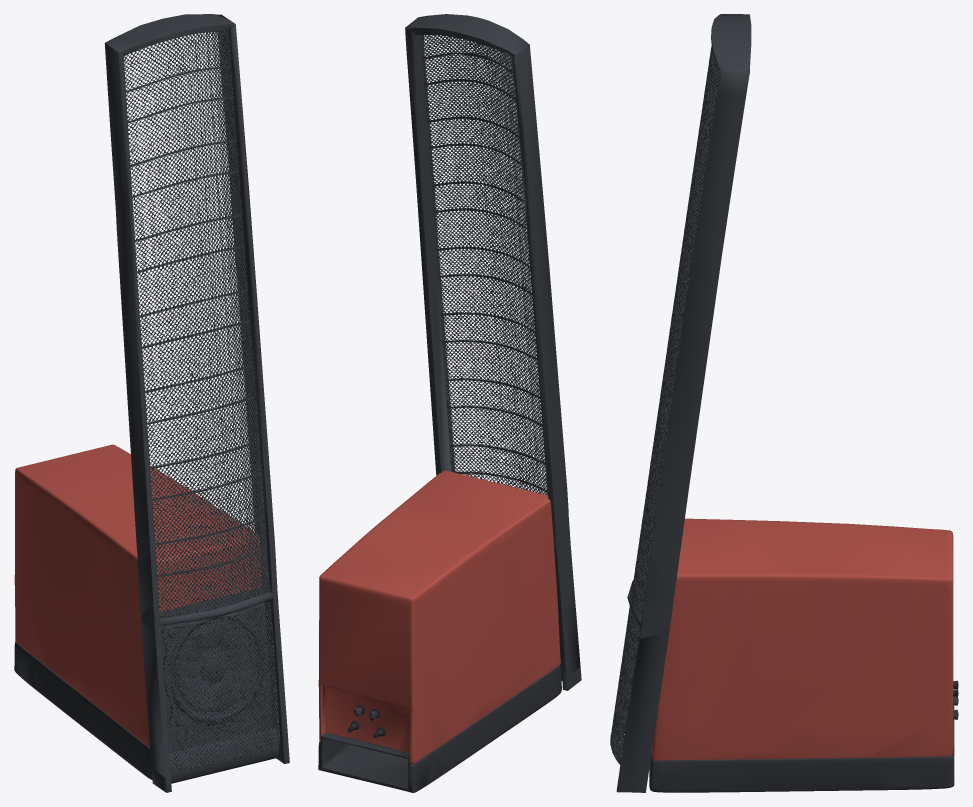
The model's file is floorstanding-loudspeaker.glb.
3 views of the same model, side by side, from view 1: azimuth 30°, elevation 25°; view 2: azimuth 150°, elevation 25°; view 3: azimuth 270°, elevation 25° (orthographic). The views are drawn at different scales.
Parts seen in each view (by area): view 1: Speaker, Base_Wood, Base_Floor; view 2: Speaker, Base_Wood, Base_Floor; view 3: Base_Wood, Speaker, Base_Floor.
Boxes of the visible parts, x1,y1,x2,y2 form: Speaker: (104, 14, 289, 792); Base_Wood: (14, 444, 261, 747); Base_Floor: (14, 641, 152, 779); Speaker: (405, 14, 581, 690); Base_Wood: (318, 470, 560, 763); Base_Floor: (318, 665, 561, 792); Base_Wood: (651, 518, 953, 760); Speaker: (610, 14, 751, 792); Base_Floor: (649, 705, 954, 792).
Bounding box in the file's own units: 0.6529 × 3.62 × 1.56.
